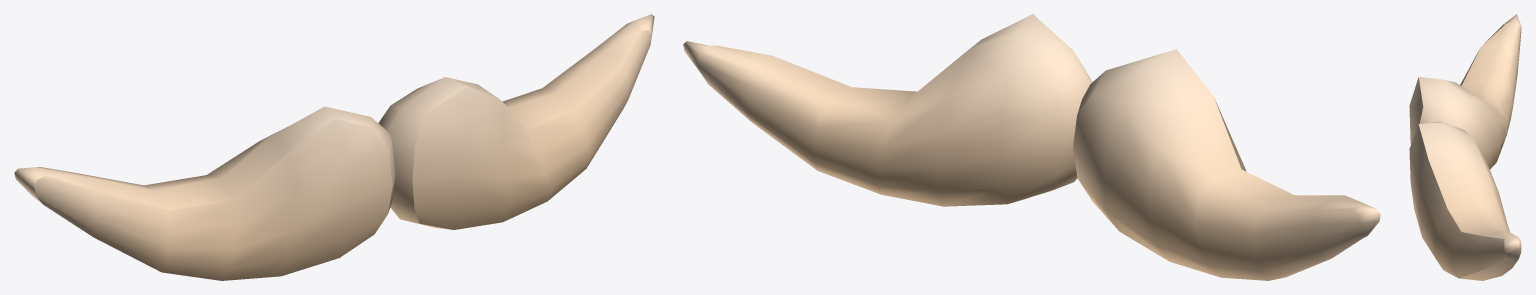
Rendered from Hair_17_C02.fbx.
3 views of the same model, side by side, from view 1: azimuth 30°, elevation 25°; view 2: azimuth 150°, elevation 25°; view 3: azimuth 270°, elevation 25° (orthographic). The views are drawn at different scales.
Visible parts, largest first — view 1: Hair_17_C02; view 2: Hair_17_C02; view 3: Hair_17_C02.
Boxes of the visible parts, <box> form: Hair_17_C02: <box>14,14,654,280</box>; Hair_17_C02: <box>683,14,1380,280</box>; Hair_17_C02: <box>1409,14,1521,280</box>.
Bounding box in the file's own units: 127 × 30.66 × 26.05.
